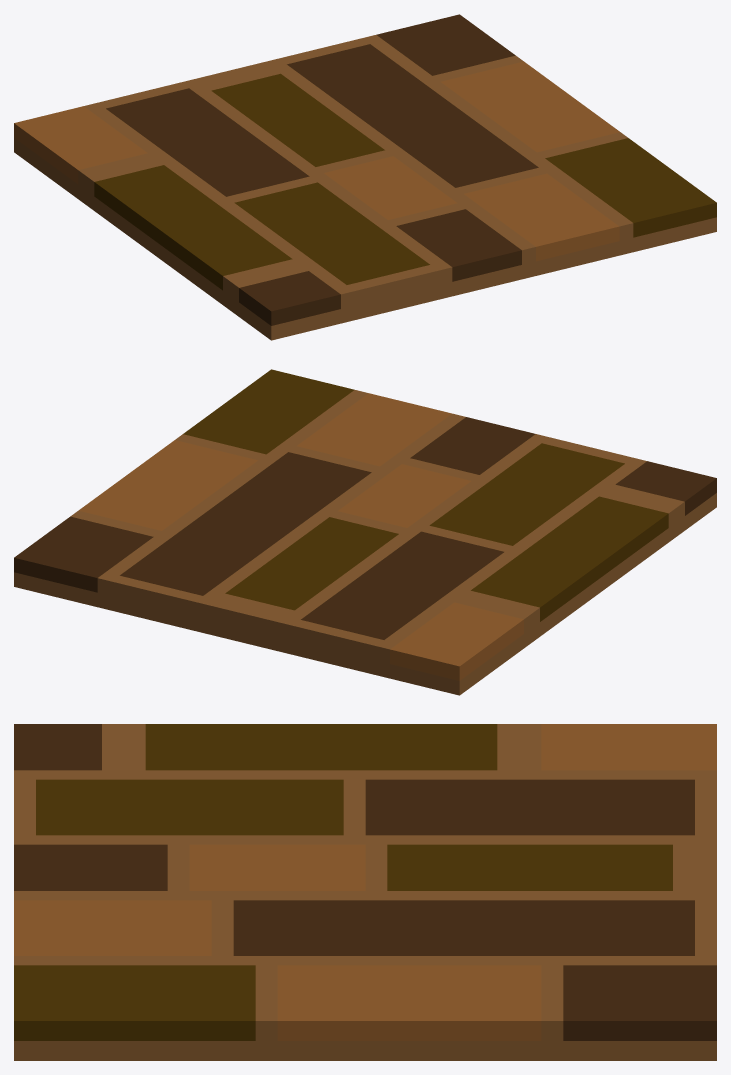
Rendered from GameAsset-0.obj.
The picture shows the model from 3 angles, top to bottom: view 1: azimuth 30°, elevation 25°; view 2: azimuth 150°, elevation 25°; view 3: azimuth 270°, elevation 25°; orthographic projection. The views are drawn at different scales.
Bounding box in the file's own units: 3.2 × 0.2 × 3.2.
1 material, 1 textured.
